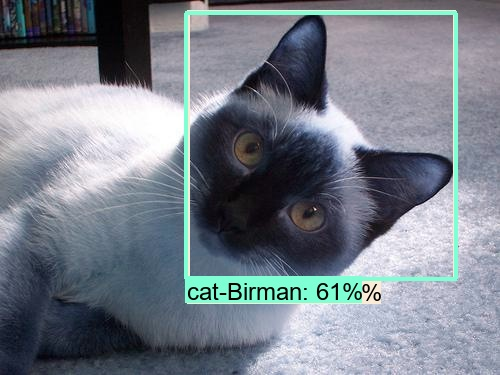cat-Siamese: (183, 13, 453, 273)
